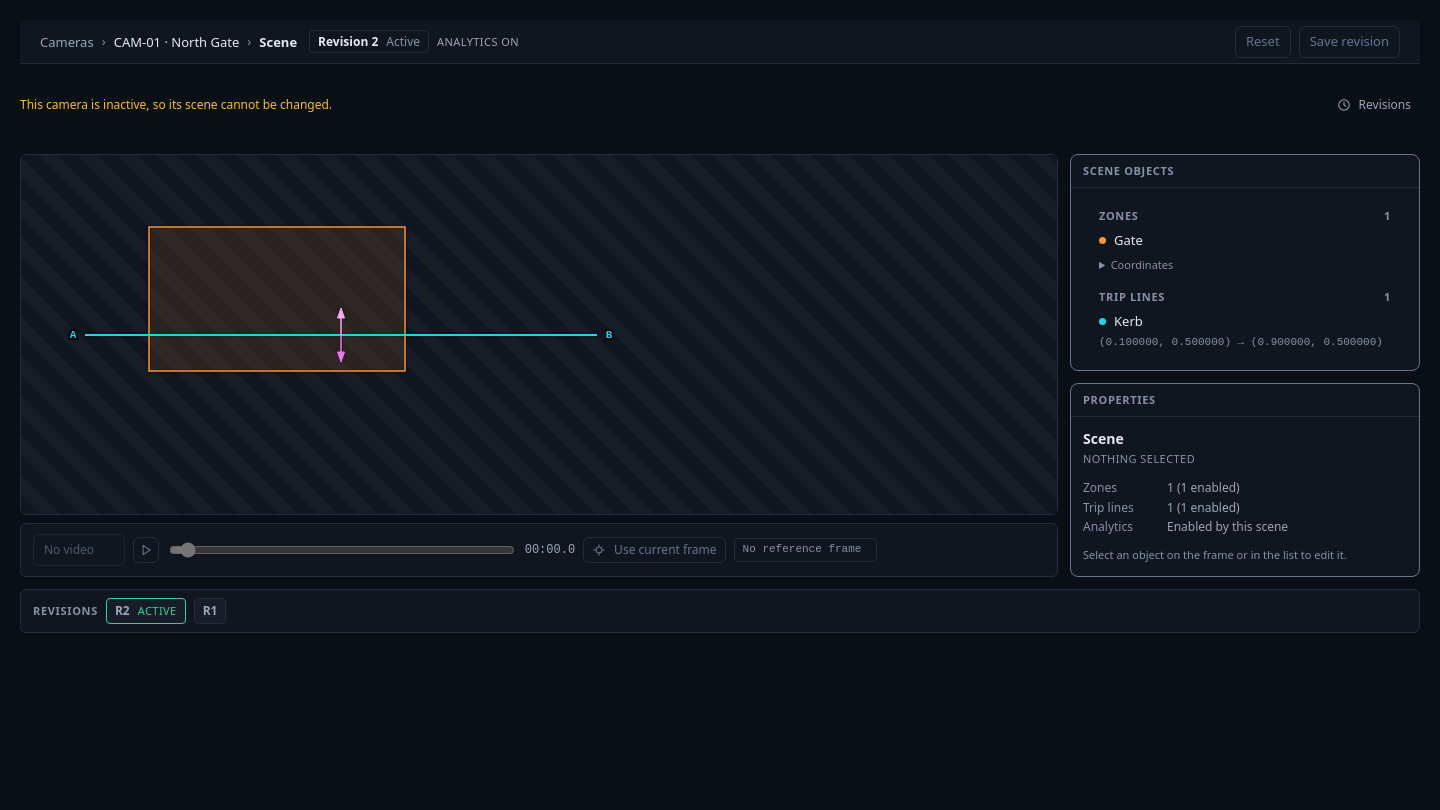
Test: scene editor › keeps an inactive camera stated while a past revision is open on it
Expected: the button "Gate" is shown, [1091,228,1399,253]
What coordinates should you click on to do the following:
click the button named "View revision 1"
I would click on:
 (210, 611)
Its box is [194,598,226,624].
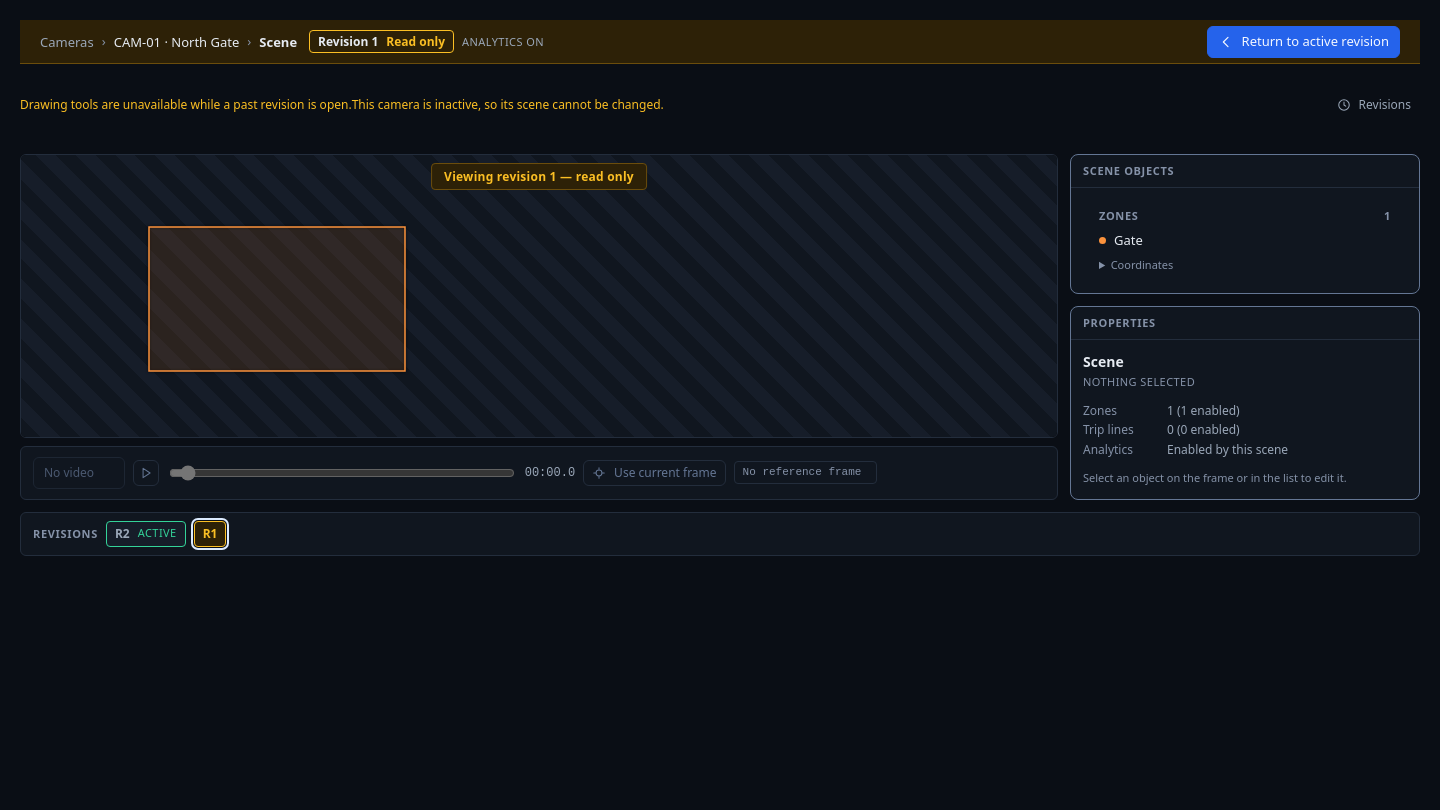
Expected: the text "This camera is inactive, so its scene cannot be changed." is shown, [352,97,664,113]
Now the text "Drawing tools are unavailable while a past revision is open" is shown, box [20,96,352,113]
